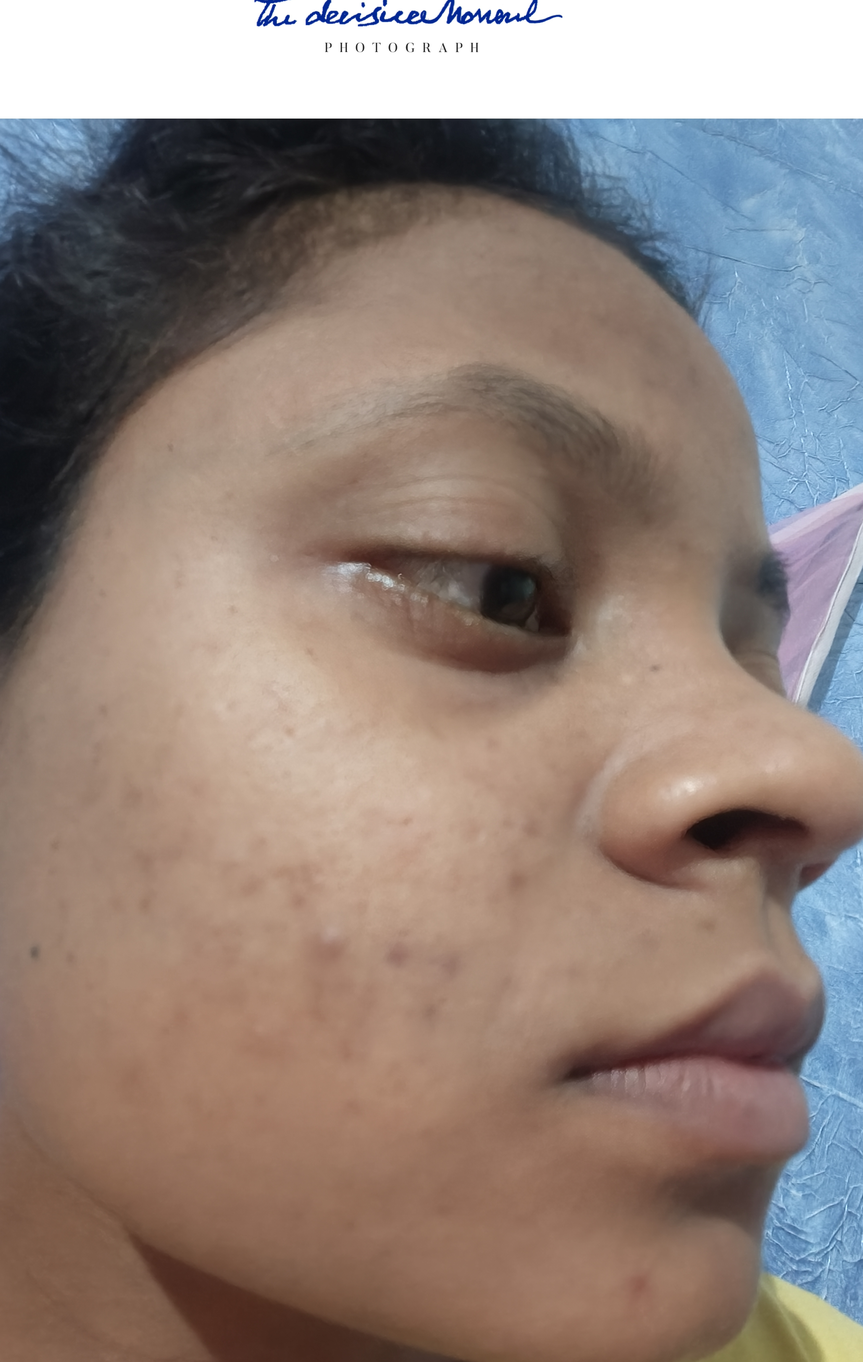papule: (293, 915, 385, 973)
